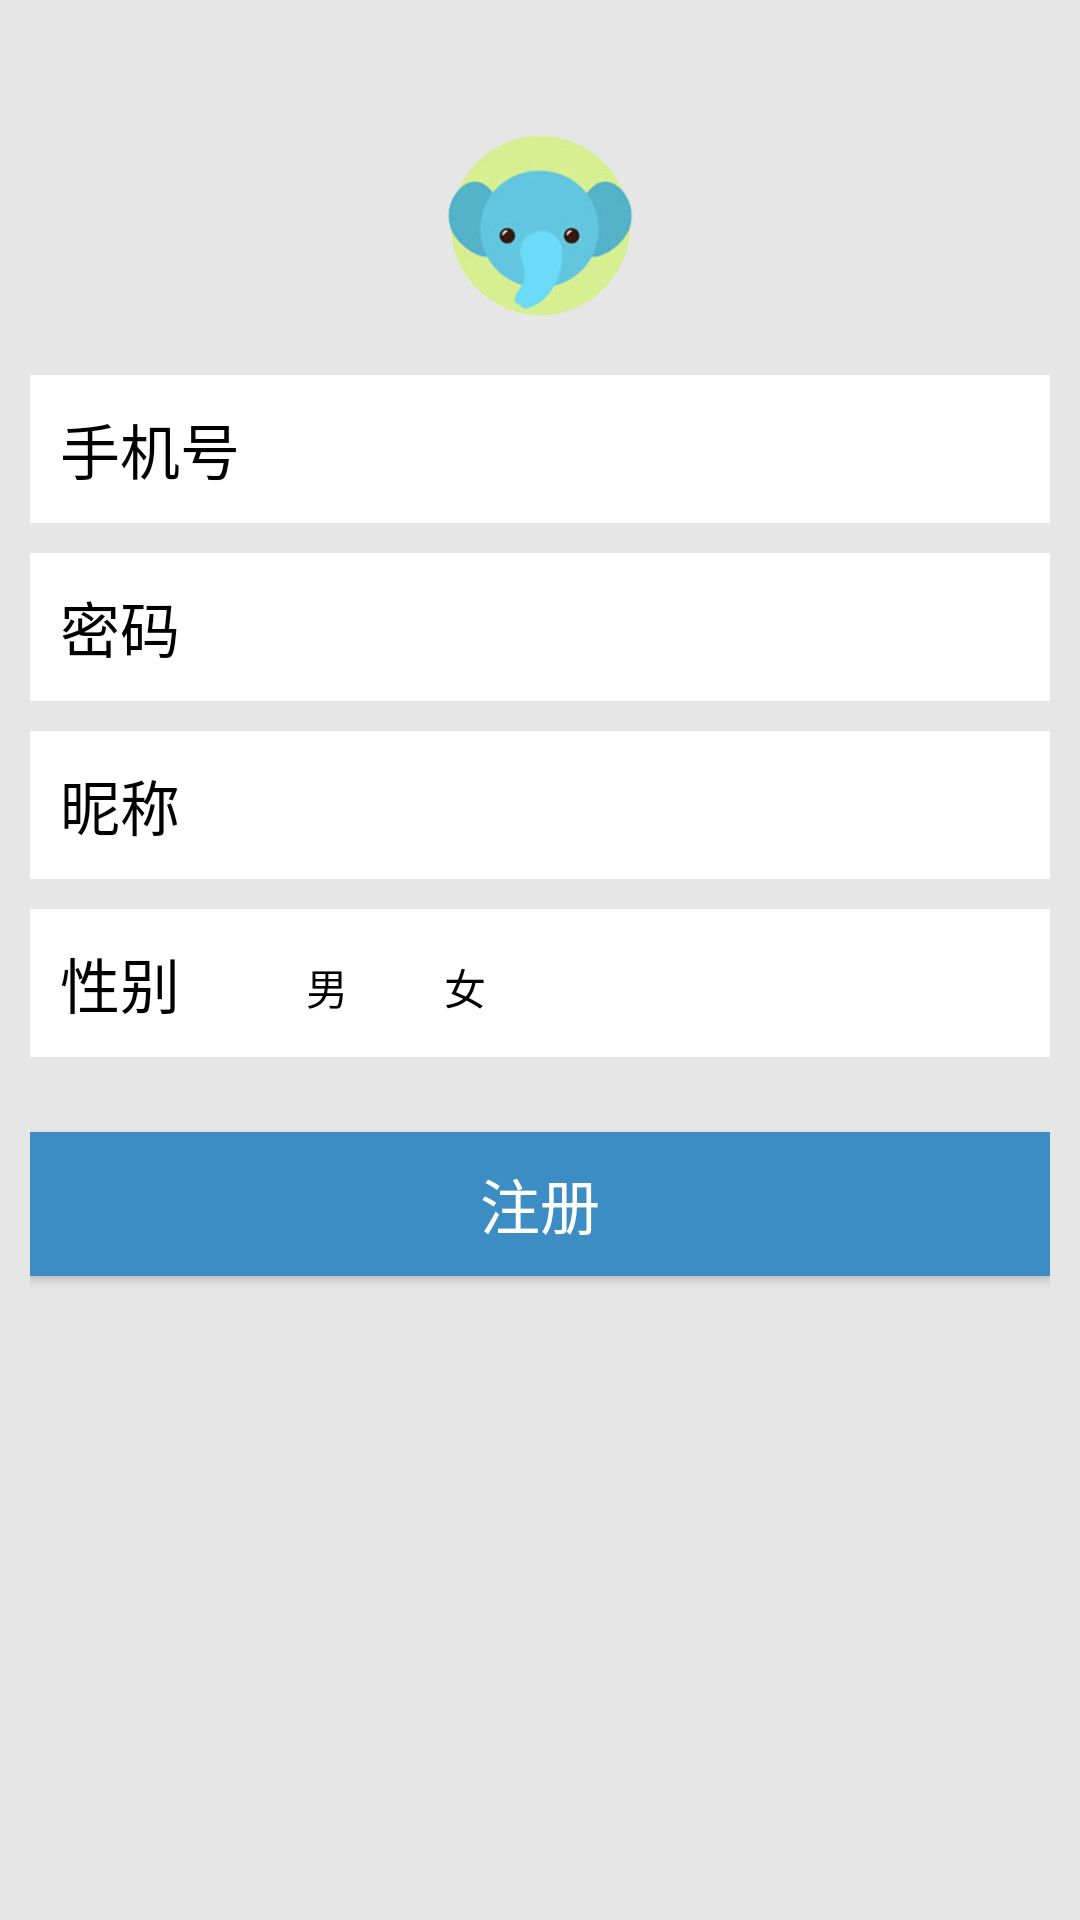

Locate icon controls on the screen. Image size 1080px×1920px, boxes as bbox(x1, y1, x2, y2).
head: bbox(448, 136, 632, 315)
